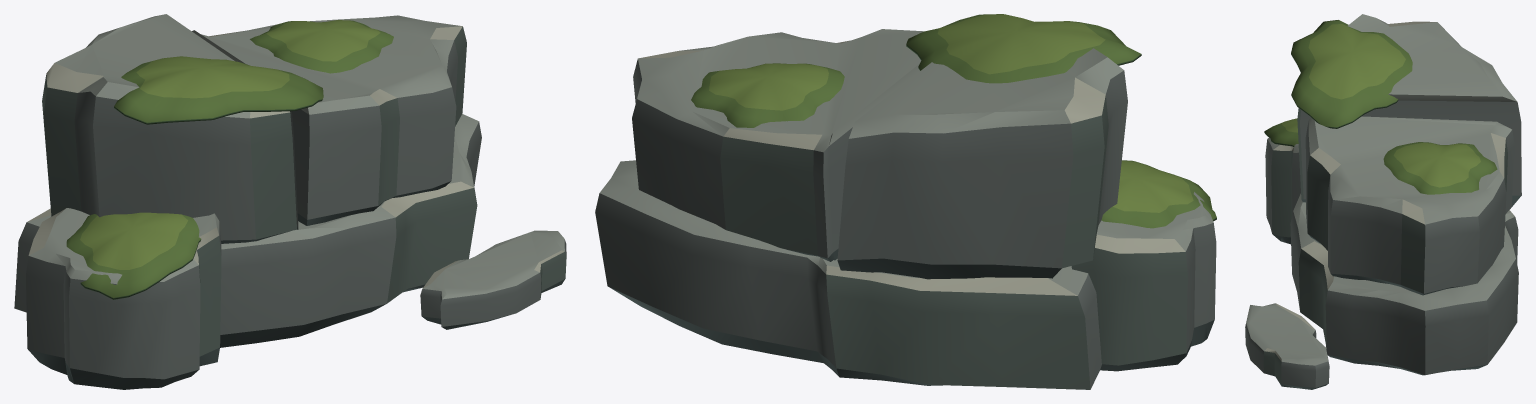
The model's file is fw_granite_moss.hi.glb.
3 views of the same model, side by side, from view 1: azimuth 30°, elevation 25°; view 2: azimuth 150°, elevation 25°; view 3: azimuth 270°, elevation 25° (orthographic). The views are drawn at different scales.
Visible parts, largest first — view 1: body; view 2: body; view 3: body.
Boxes of the visible parts, <box> form: body: <box>14,14,566,389</box>; body: <box>595,14,1216,389</box>; body: <box>1245,14,1521,389</box>.
Size of the model in its own units: 2.52 by 1.28 by 1.49.
